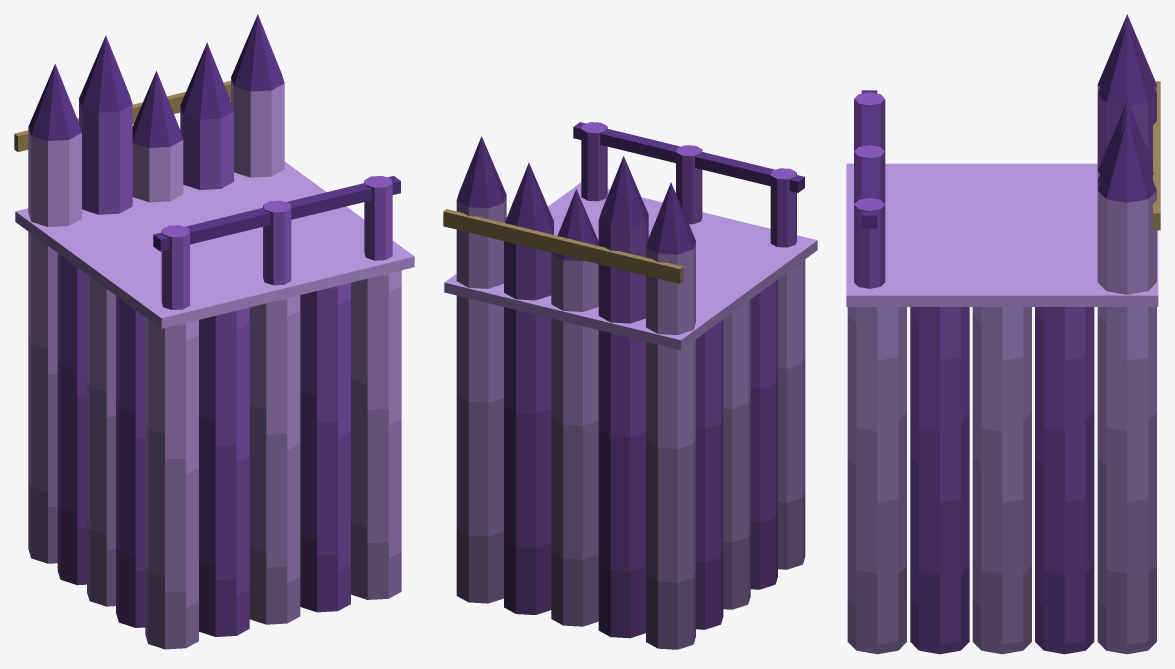
Rendered from perimeter_wall_crystal_f10.glb.
3 views of the same model, side by side, from view 1: azimuth 30°, elevation 25°; view 2: azimuth 150°, elevation 25°; view 3: azimuth 270°, elevation 25° (orthographic). The views are drawn at different scales.
Size of the model in its own units: 2 by 3.9 by 2.01.
Materials: 1 (1 with a texture image).
